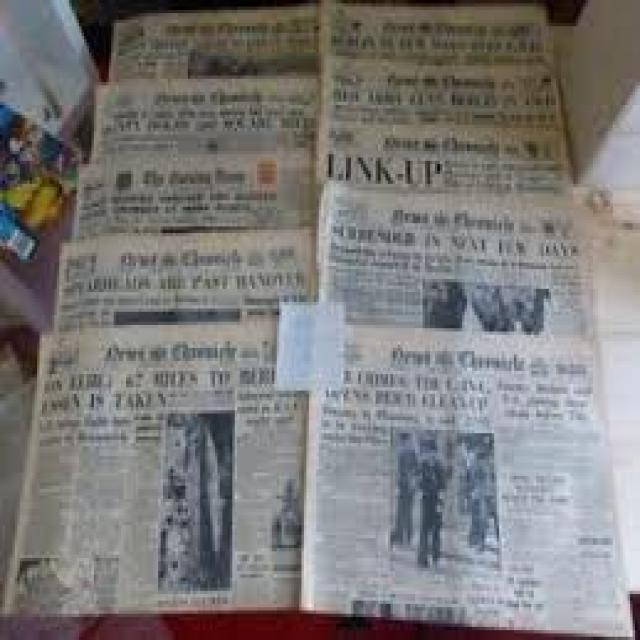paper: (297, 322, 630, 637), (0, 309, 299, 611), (314, 174, 593, 341), (54, 227, 314, 319), (69, 145, 314, 227), (317, 115, 569, 184), (316, 49, 561, 118), (106, 4, 314, 76), (86, 79, 314, 144), (316, 0, 549, 53), (272, 295, 343, 384)
